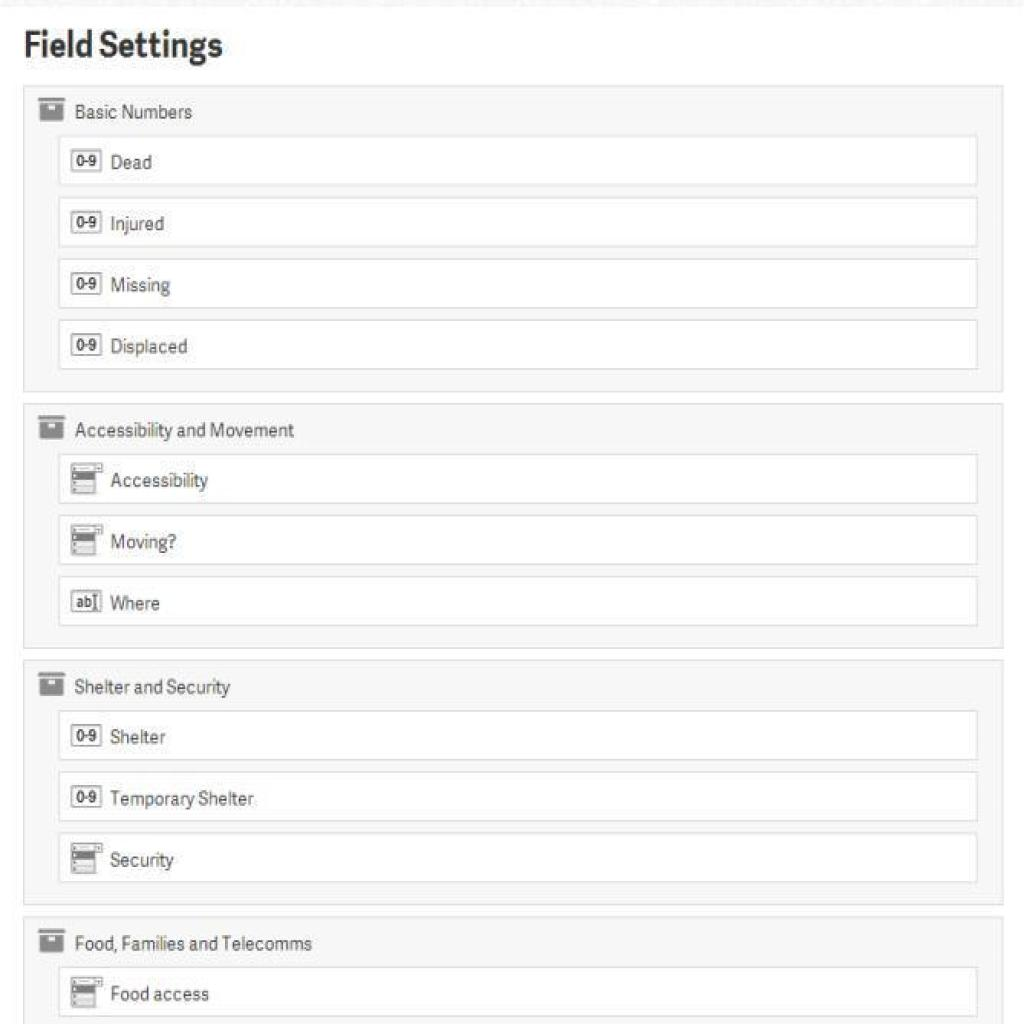input: (58, 830, 978, 883), (58, 574, 977, 626), (58, 195, 978, 246), (58, 710, 977, 761), (60, 966, 976, 1017), (58, 513, 977, 563), (58, 771, 977, 820), (60, 319, 976, 368), (61, 260, 975, 309), (58, 454, 978, 502), (61, 136, 978, 183)
label: (20, 22, 229, 72), (72, 928, 318, 961), (73, 415, 300, 447), (69, 672, 237, 701), (68, 98, 198, 126)
